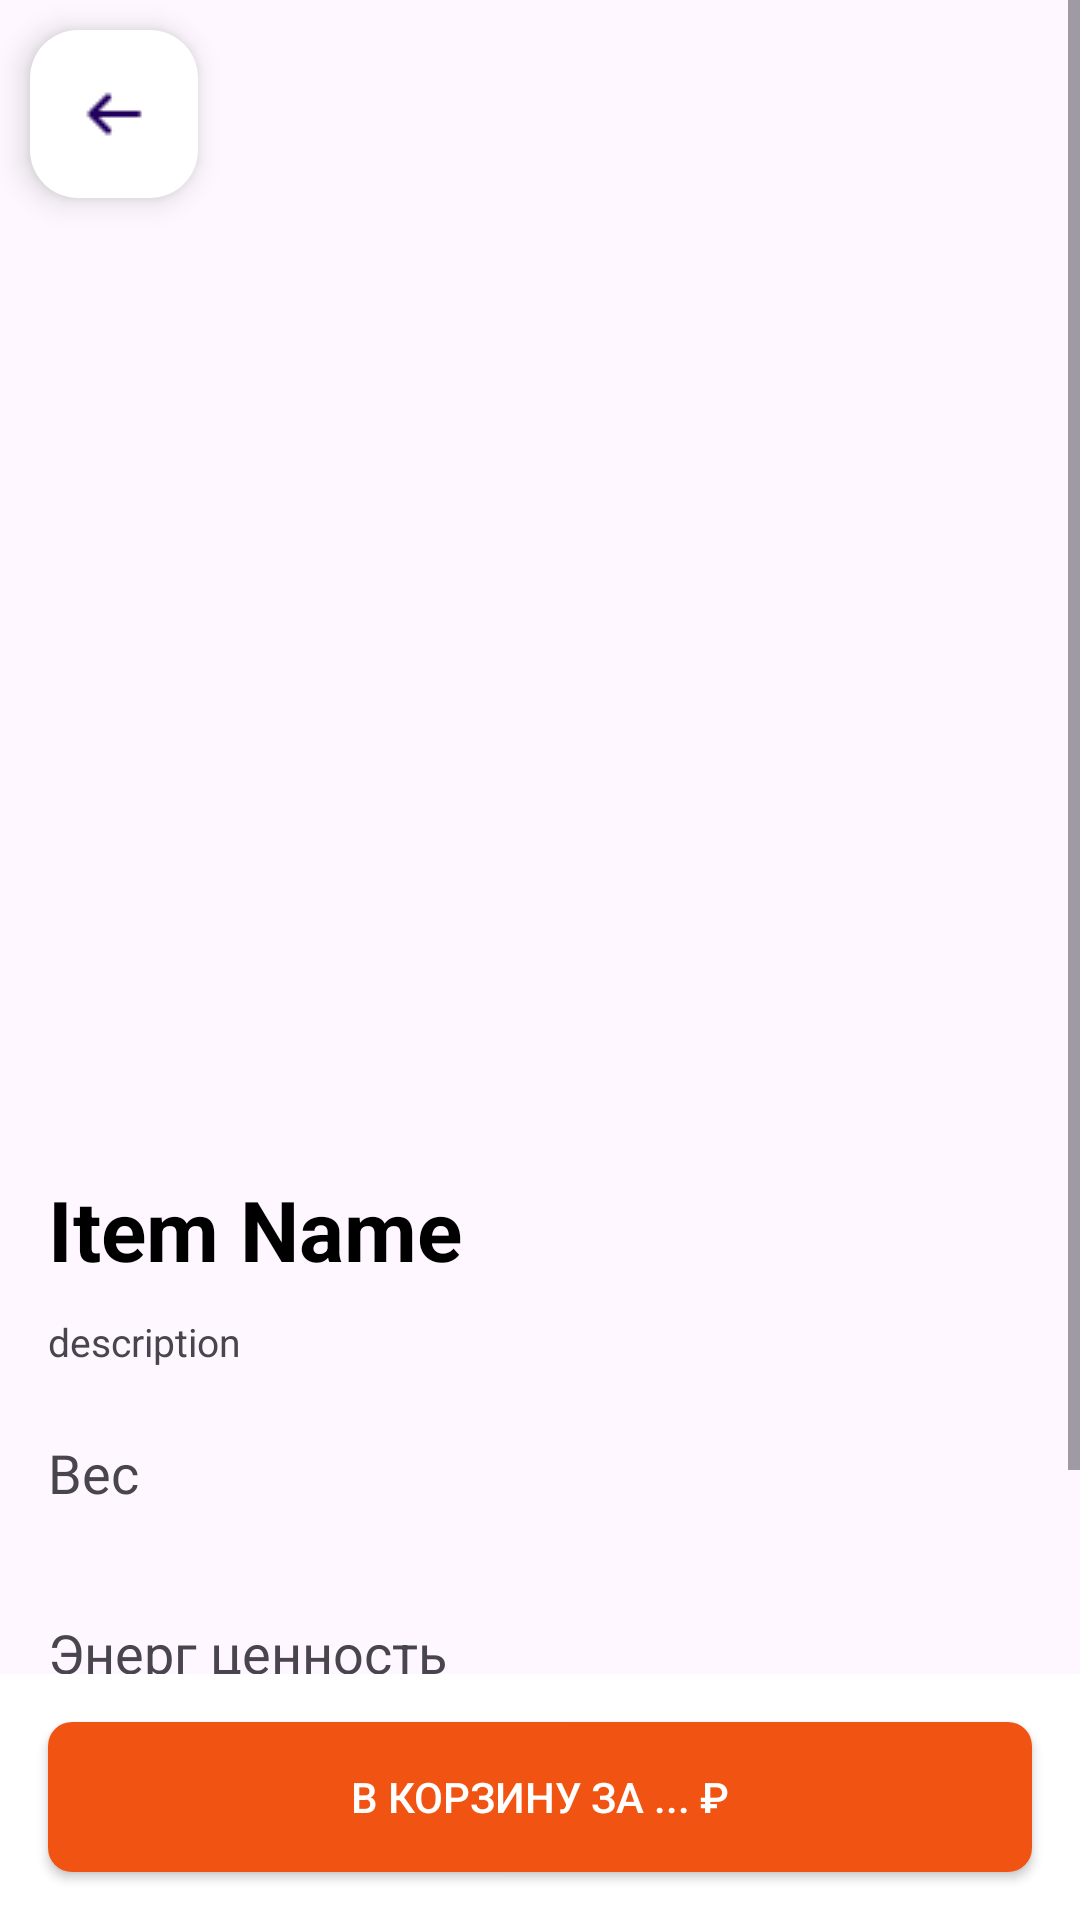

Icons on this 1080 × 1920 Android screen, each with the point to tap as (x=x, y=y):
arrow: (x=114, y=114)
